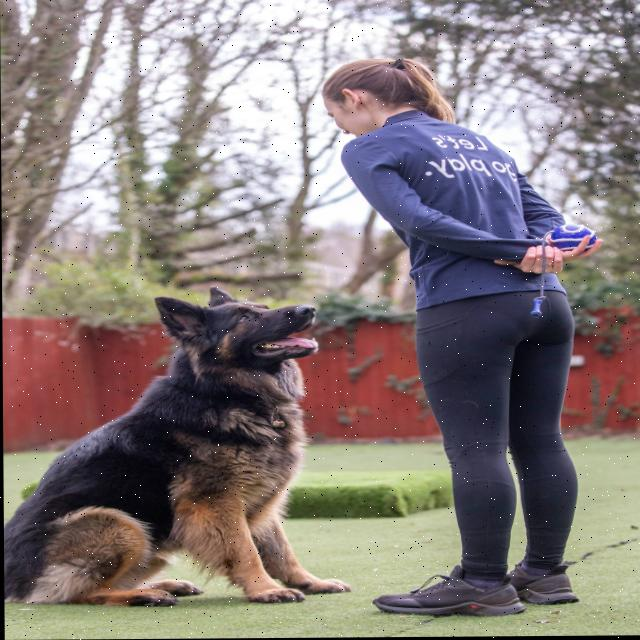GERMAN_SHEPHERD: (2, 275, 355, 637)
